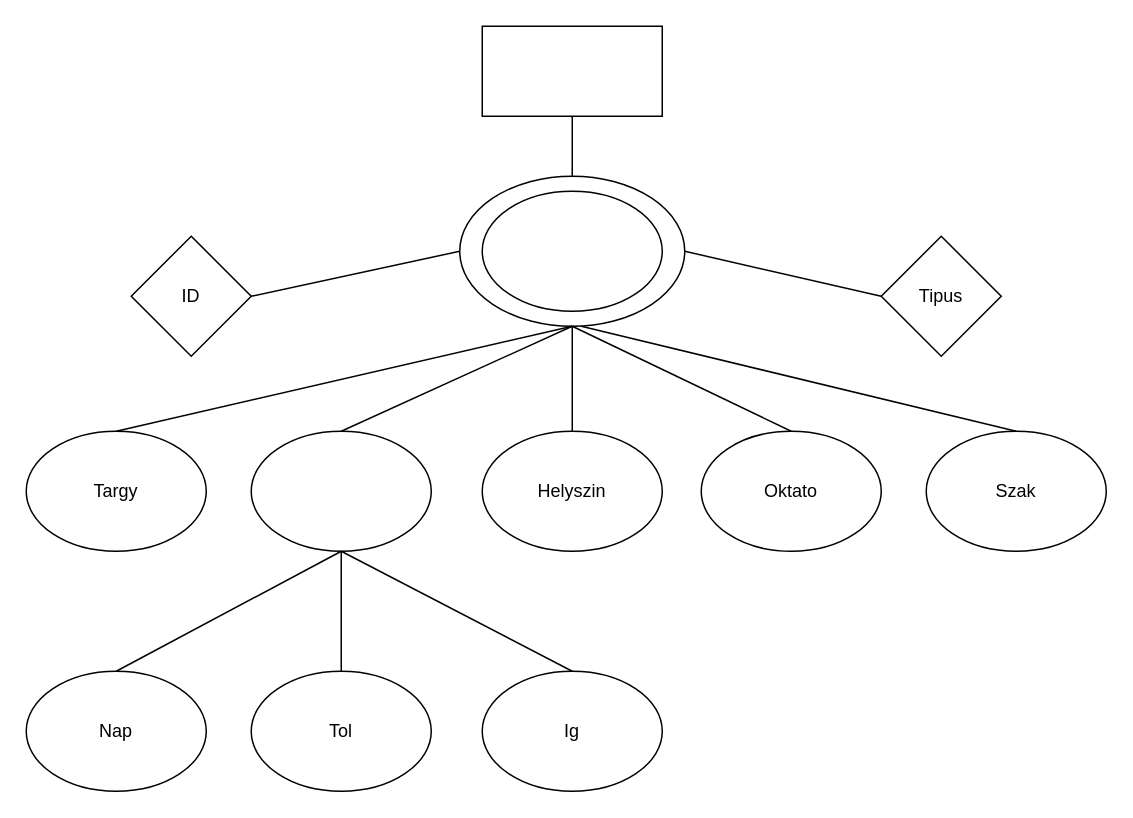
This 1133x818 diagram has some shape labels left out. Each missing label, with the box of its shape:
I9SUP5_orarend: (481, 25, 662, 116)
Idopont: (250, 430, 431, 551)
Ora: (481, 190, 662, 311)
